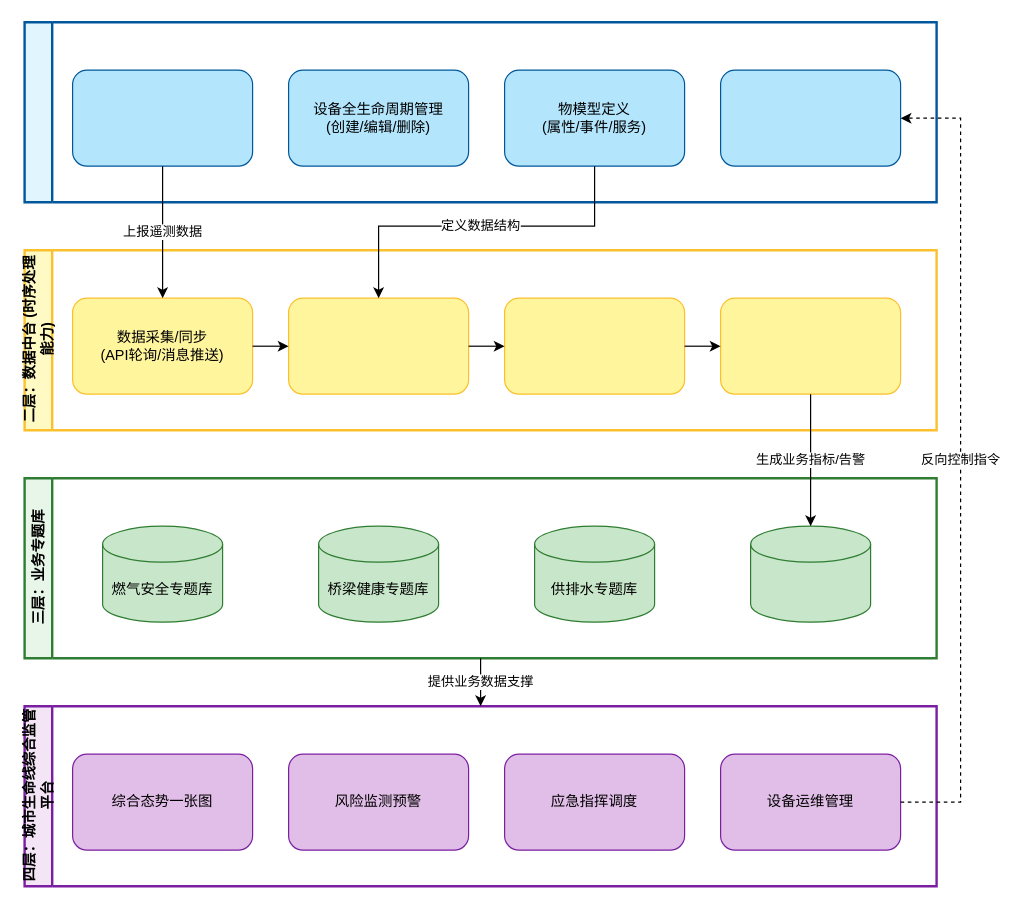
This 1020x907 diagram has some shape labels left out. The box of each missing label's shape, as (x1, y1, x2, y2) in pixels:
一层：OneNET城市物联网平台: (23, 20, 937, 203)
异常识别算法模型 (压力突变/泄露分析): (719, 297, 901, 394)
指令下发与响应 (即时/缓存命令): (719, 69, 901, 166)
数据清洗与标准化 (去噪/格式统一): (287, 297, 469, 394)
时序数据分析 (趋势预测/阈值判定): (503, 297, 685, 394)
综合预警记录库: (749, 525, 871, 622)
设备接入与鉴权 (LwM2M/MQTT/CoAP): (71, 69, 253, 166)
